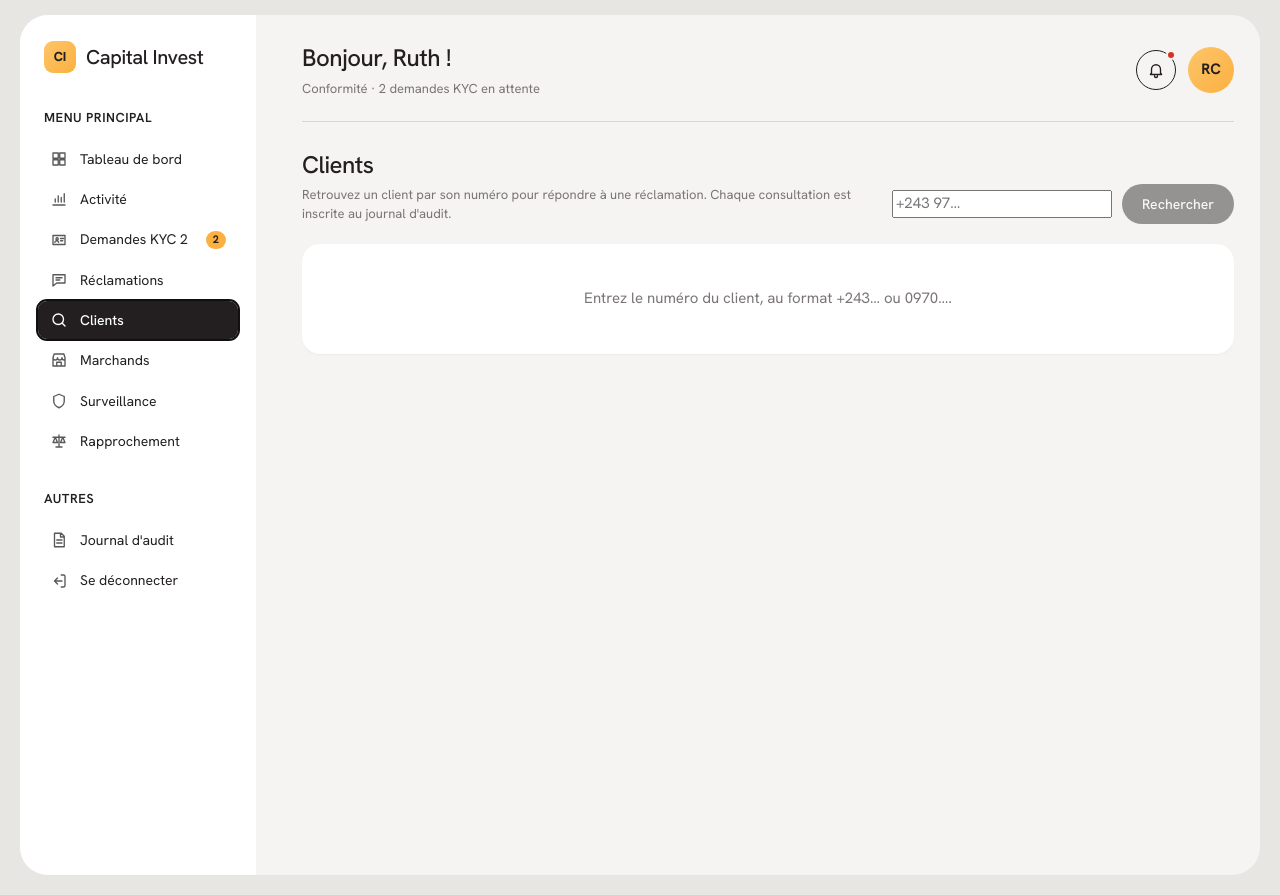
Test: clients › la conformité retrouve un client, filtre ses opérations et ouvre un reçu
Earlier steps of the test are not shown.
Type "+243 970 000 999" into the field named "Numéro du client" at (1002, 204), box [892,190,1112,218]
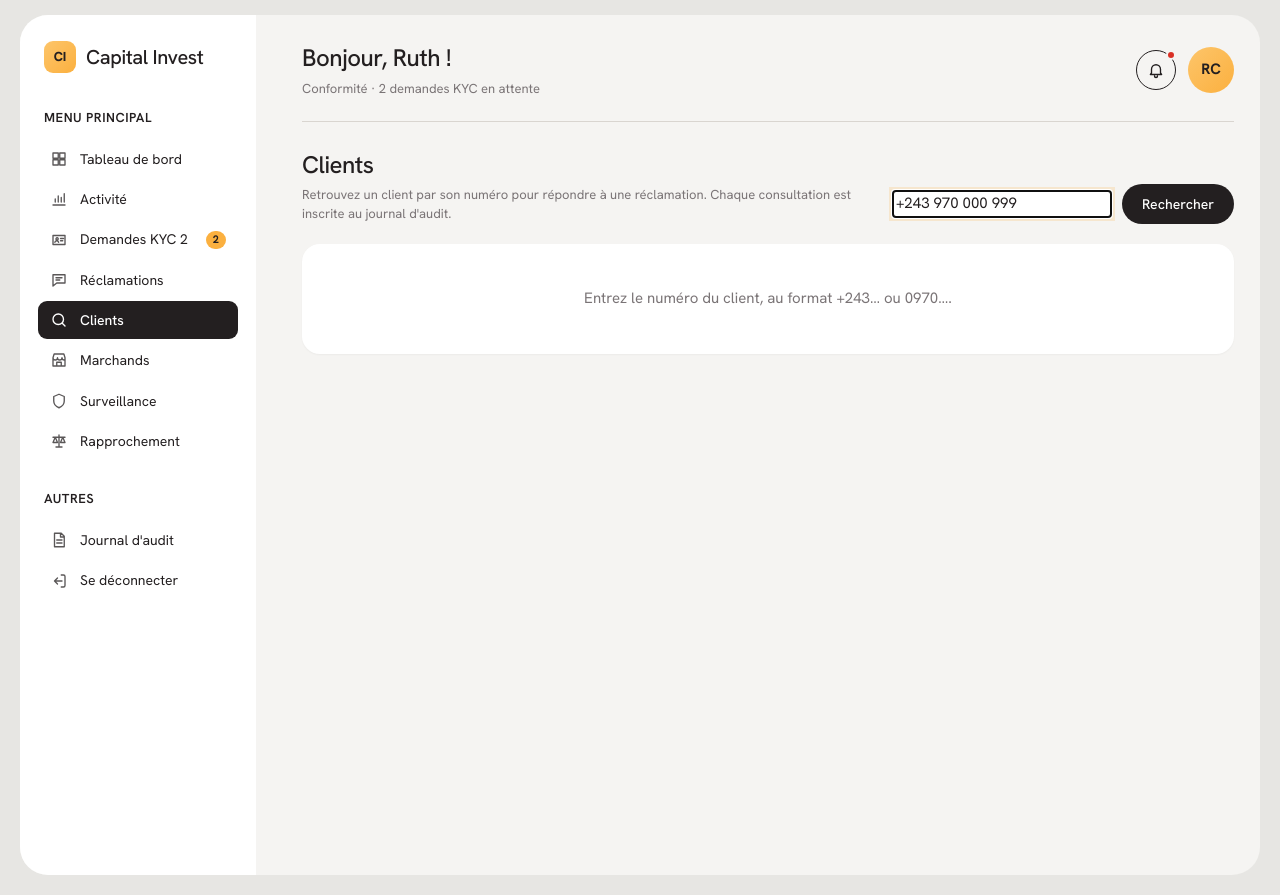
Click the button "Rechercher" at (1178, 204), box [1122,184,1234,224]
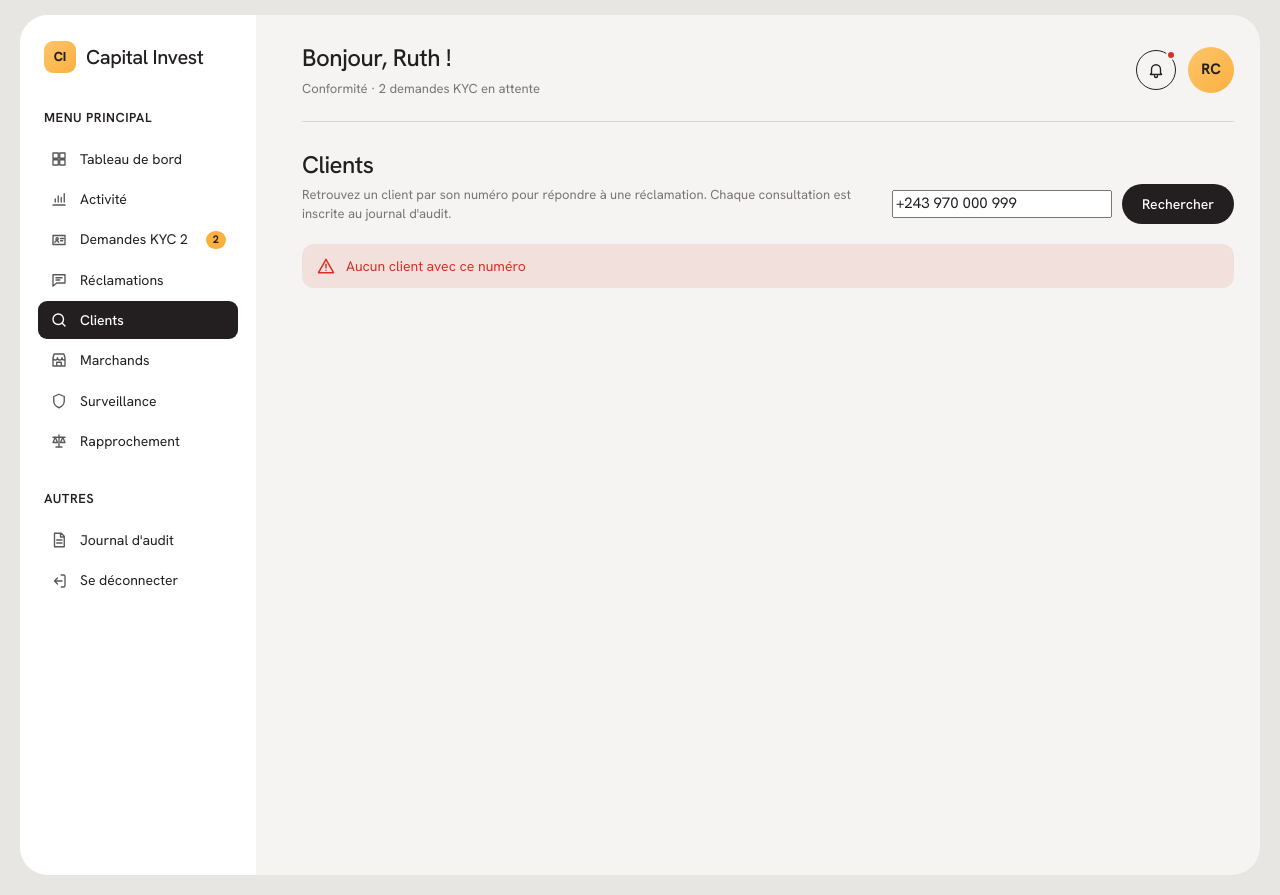
Now the message reads "Aucun client avec ce numéro", box [346,257,526,275]
Replace the text in the field named "Numéro du client" with "+243970000001" at (1002, 204), box [892,190,1112,218]
Click the button "Rechercher" at (1178, 204), box [1122,184,1234,224]
(page scrolled)
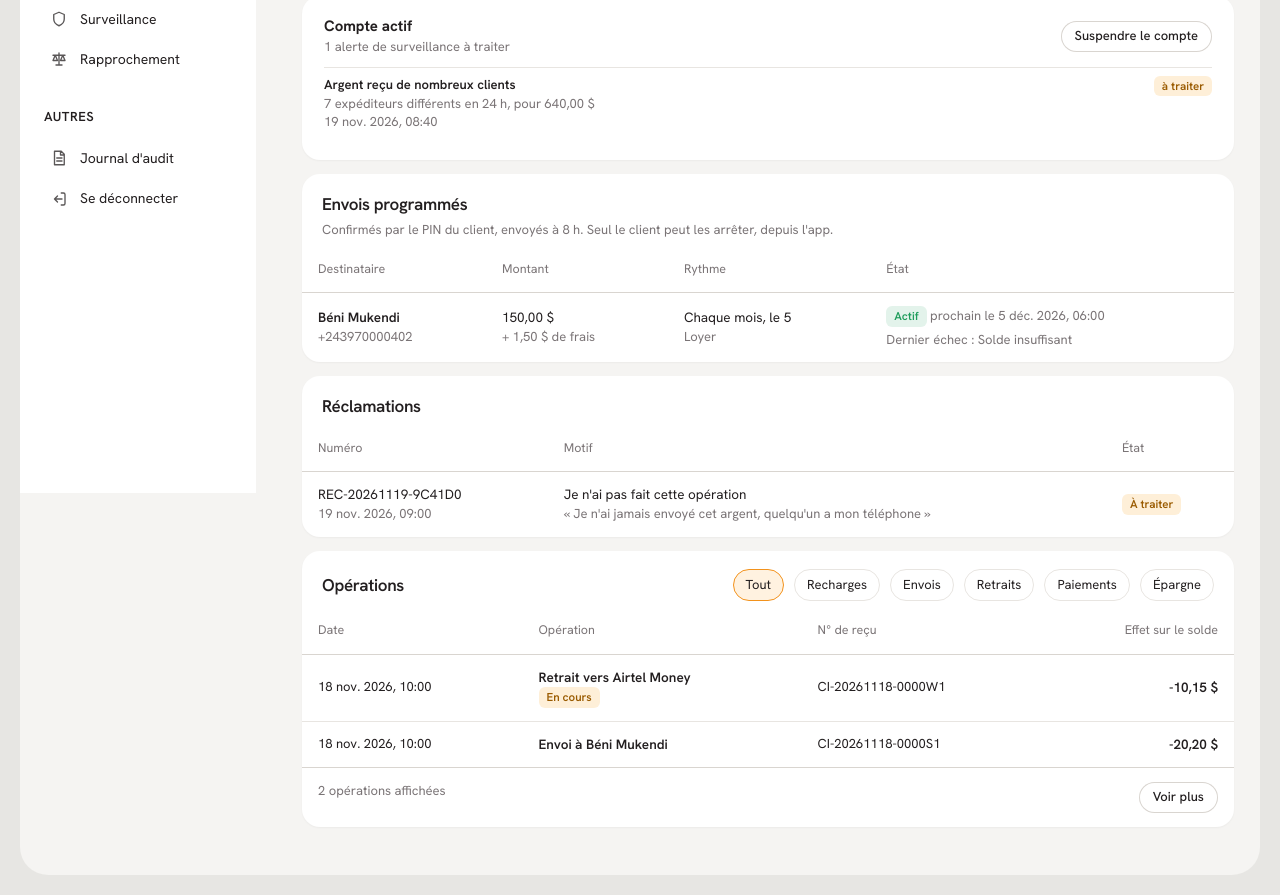
Now the text "Envoi à Béni Mukendi" is shown, box [538,735,668,753]
Now the text "En cours" is shown, box [538,687,600,708]
Now the text "-20,20 $" is shown, box [1044,721,1234,767]
Click the button "Voir plus" at (1178, 798), box [1139,782,1218,813]
(page scrolled)
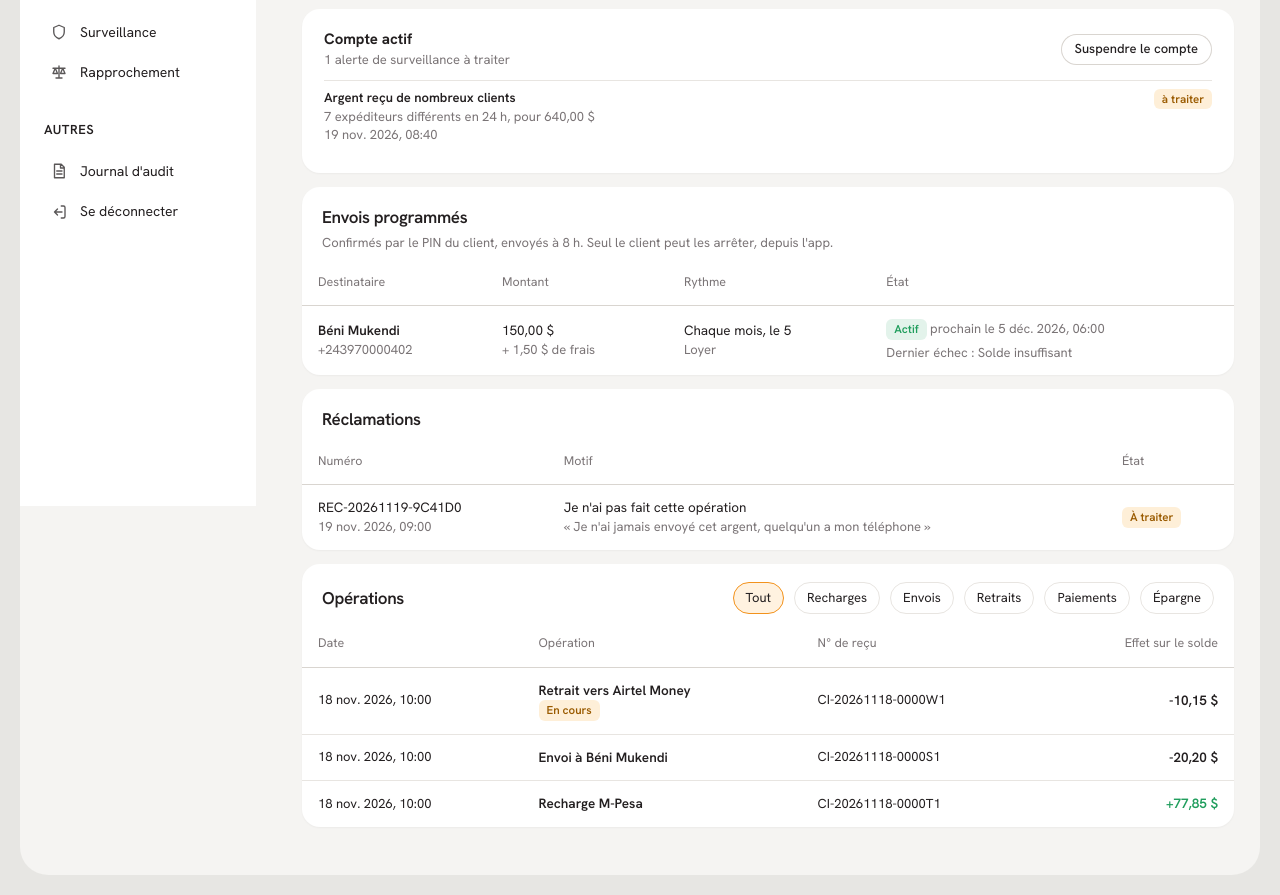
Now the text "Recharge M-Pesa" is shown, box [538,794,643,812]
Now the button "Voir plus" is gone
Click the button "Envois" at (922, 598), box [890,582,954,614]
(page scrolled)
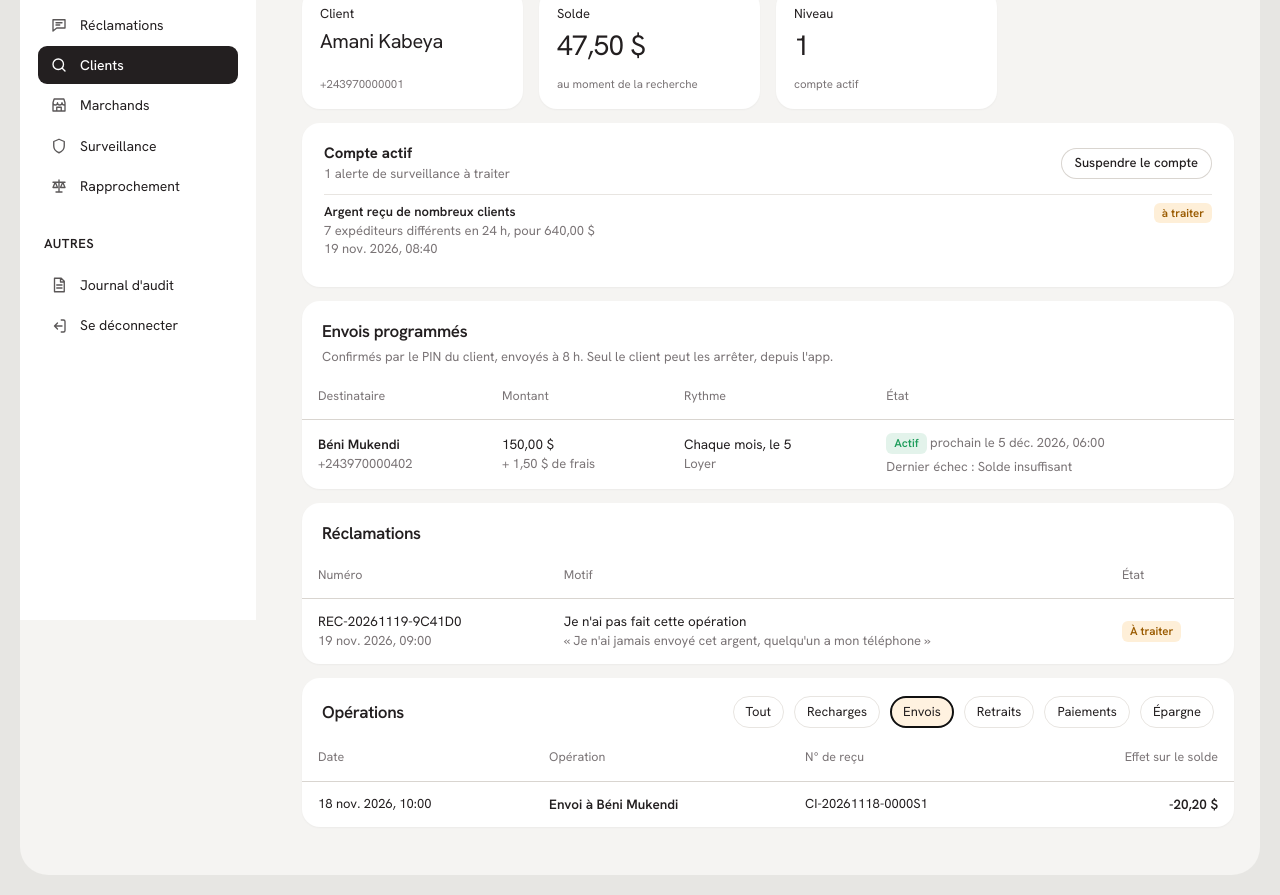
Now the text "Retrait vers Airtel Money" is gone
Click the text "Envoi à Béni Mukendi" at (614, 804), box [549,794,678,812]
(page scrolled)
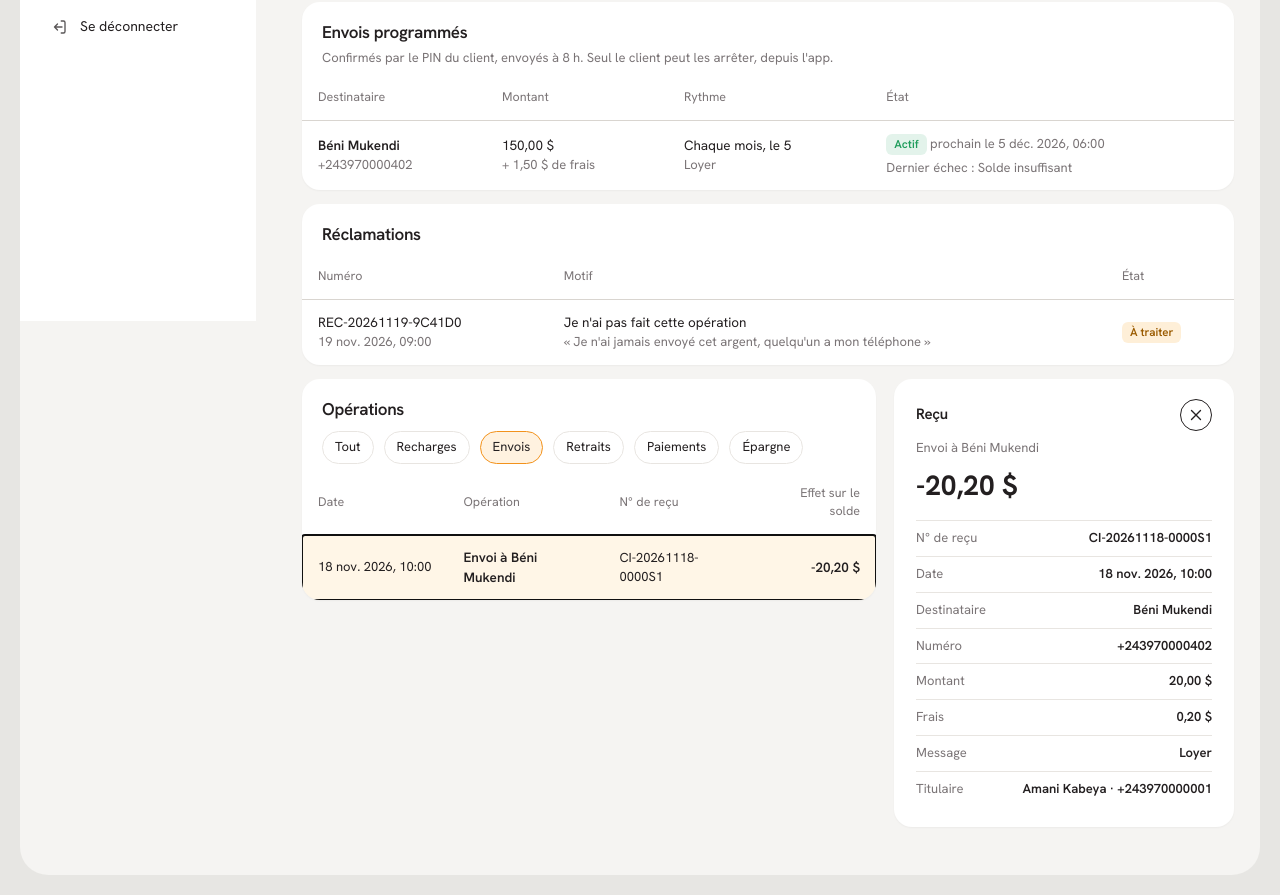
Now the text "CI-20261118-0000S1" is shown, box [1089,529,1212,548]
Now the text "+243970000402" below "Effet sur le solde" is shown, box [1117,636,1212,654]
Now the text "Loyer" in the row of "Message" is shown, box [1179,744,1212,761]
